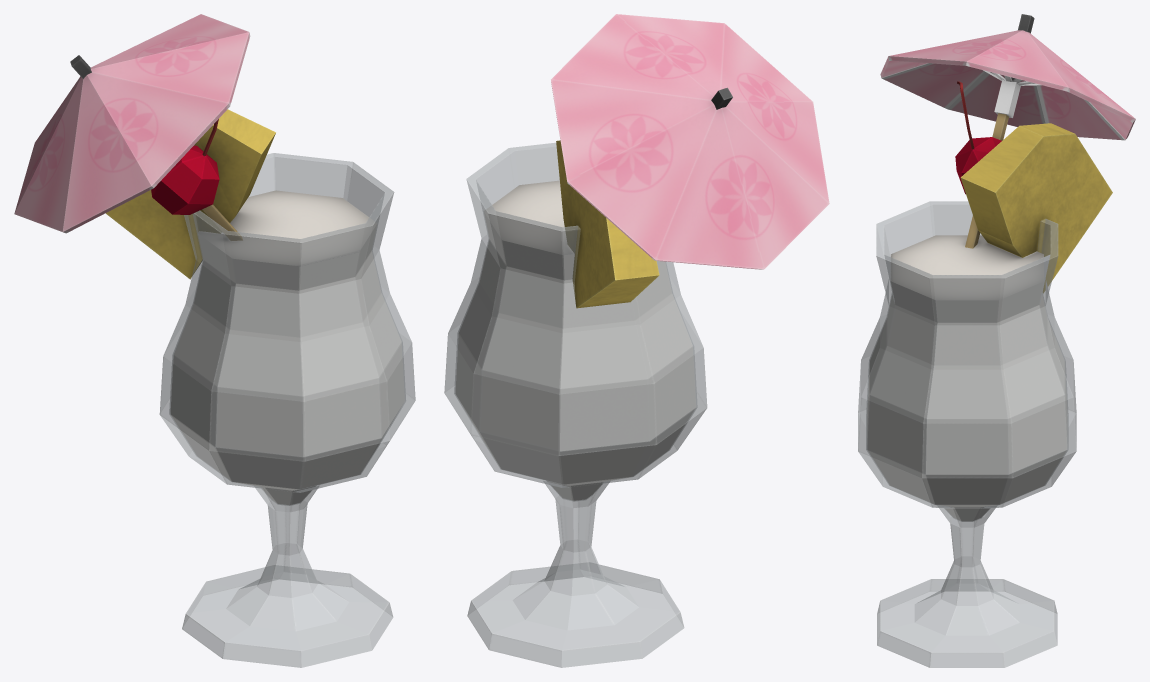
Rendered from PinaColada(1).gltf.
3 views of the same model, side by side, from view 1: azimuth 30°, elevation 25°; view 2: azimuth 150°, elevation 25°; view 3: azimuth 270°, elevation 25° (orthographic). The views are drawn at different scales.
Parts seen in each view (by area): view 1: node-0; view 2: node-0; view 3: node-0.
Part boxes in pixels (left/top/right/bottom): node-0: left=14, top=14, right=415, bottom=667; node-0: left=444, top=14, right=829, bottom=667; node-0: left=858, top=14, right=1135, bottom=667.
Size of the model in its own units: 1.04 by 1.76 by 0.8054.
2 materials, 2 textured.
